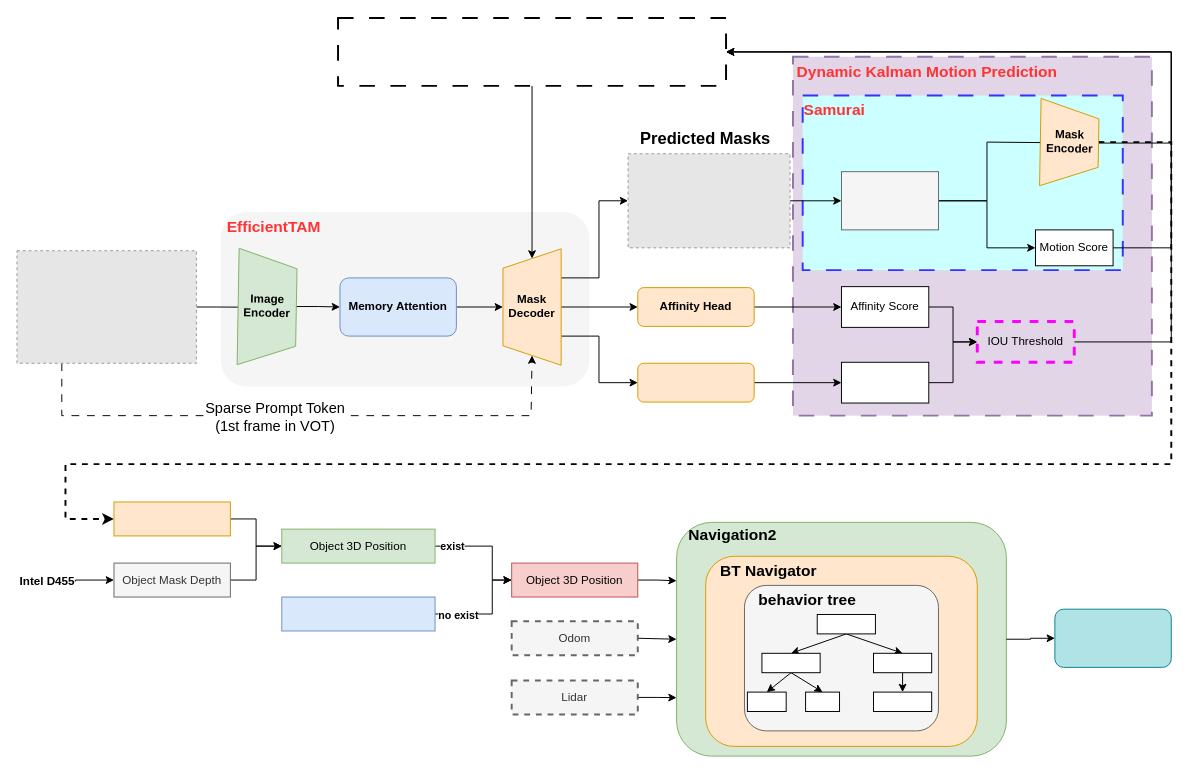
This 1197x773 diagram has some shape labels left out. Grey dashed boxes stand in for pictures. The centre of each missing label's shape, as x and y in pixels:
"Dynamic Kalman motion observation" belongs at point (358, 613).
"Memory Bank" belongs at point (532, 51).
"Motion Modeling" belongs at point (889, 200).
"Object Head" belongs at point (695, 382).
"Object Mask" belongs at point (171, 518).
"Object Score" belongs at point (885, 382).
"Robot /cmd_vel" belongs at point (1112, 637).
